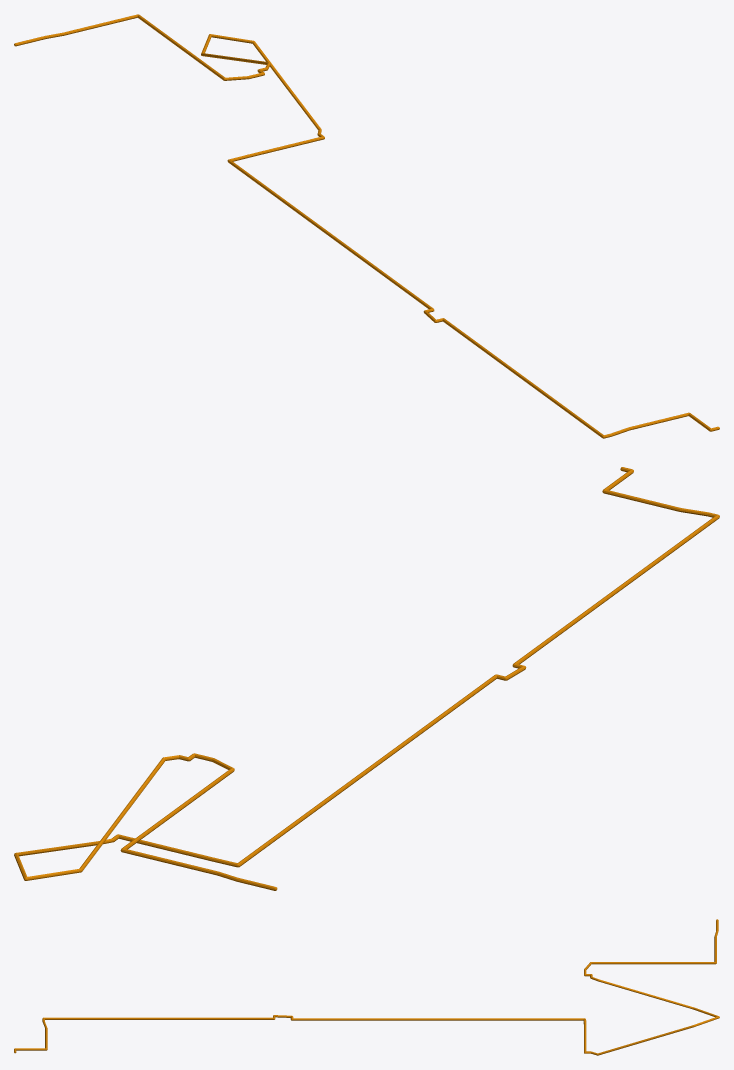
The picture shows the model from 3 angles, top to bottom: view 1: azimuth 30°, elevation 25°; view 2: azimuth 150°, elevation 25°; view 3: azimuth 270°, elevation 25°; orthographic projection. The views are drawn at different scales.
Bounding box in the file's own units: 1495 × 520 × 5666.
